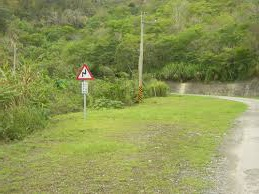Double_bend_right: (75, 62, 93, 79)
